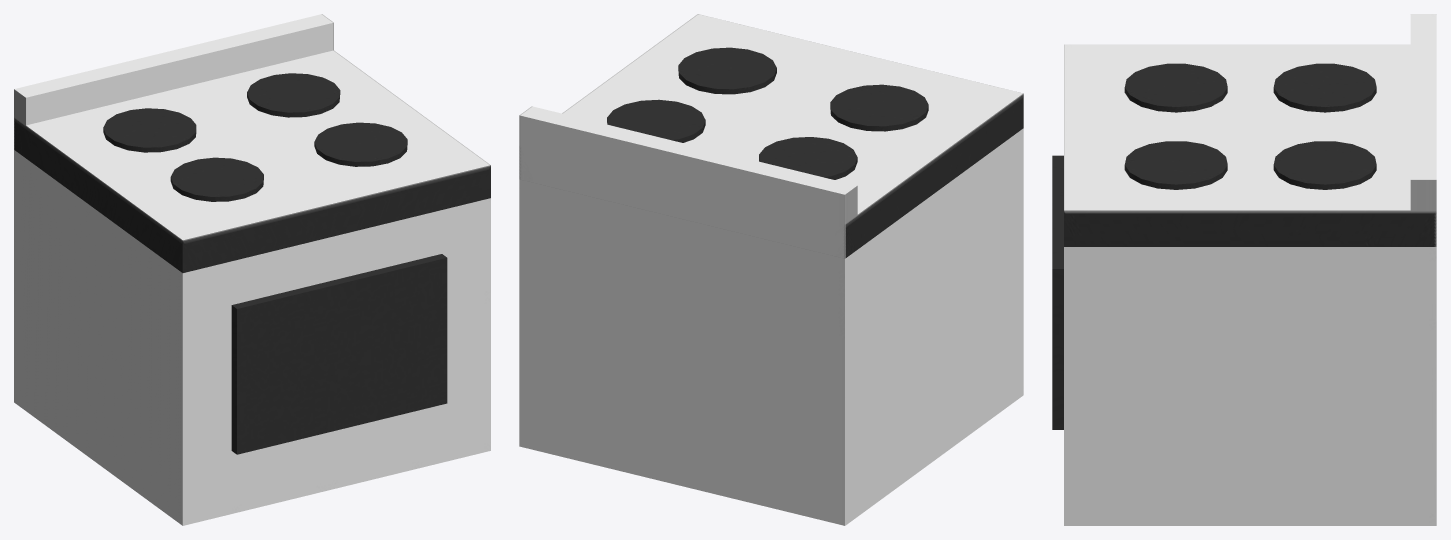
File: Cooker.gltf
3 renders of one model, left to right at view 1: azimuth 30°, elevation 25°; view 2: azimuth 150°, elevation 25°; view 3: azimuth 270°, elevation 25°, orthographic. The views are drawn at different scales.
Parts seen in each view (by area): view 1: Cooker; view 2: Cooker; view 3: Cooker.
Part boxes in pixels (bbox=[...]): Cooker: bbox=[14, 14, 490, 525]; Cooker: bbox=[519, 14, 1023, 525]; Cooker: bbox=[1052, 14, 1436, 525].
Bounding box in the file's own units: 27.72 × 26.92 × 27.13.
1 material, 1 textured.
